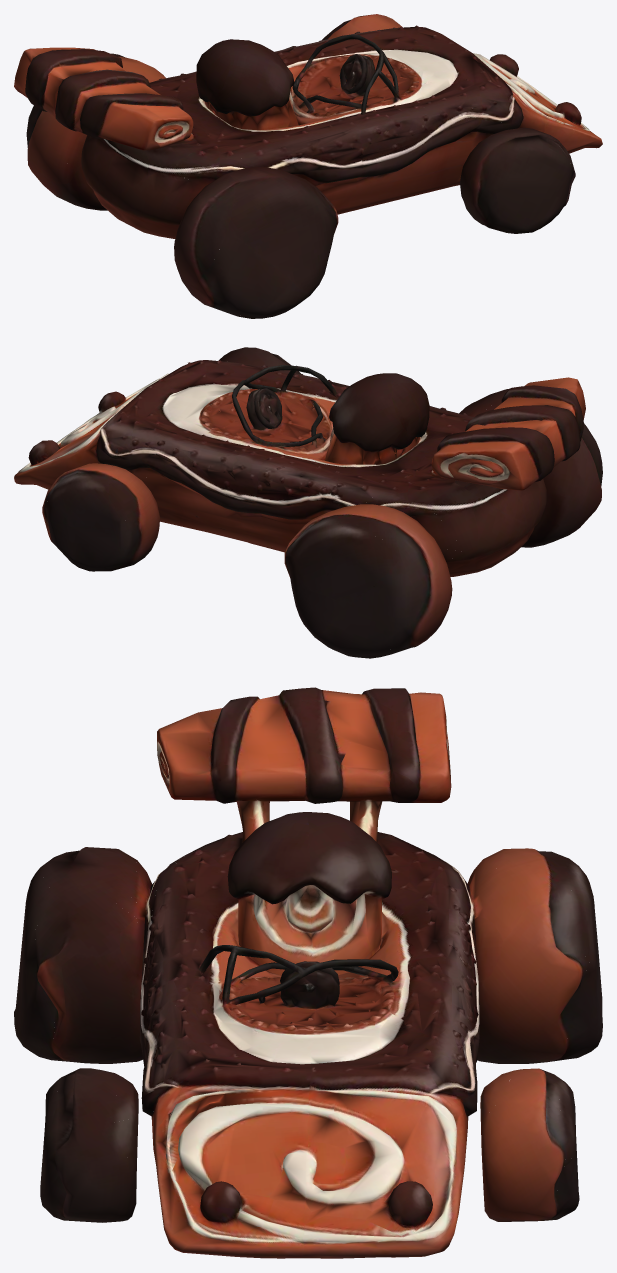
The model's file is gevulde-chariot.glb.
3 views of the same model, one above another, from view 1: azimuth 30°, elevation 25°; view 2: azimuth 150°, elevation 25°; view 3: azimuth 270°, elevation 25° (orthographic). The views are drawn at different scales.
Parts seen in each view (by area): view 1: tripo_node_58981b7b-7638-4db0-a377-dda63e94b34f, Roue_0_maillage, Roue_2_maillage, Roue_1_maillage; view 2: tripo_node_58981b7b-7638-4db0-a377-dda63e94b34f, Roue_1_maillage, Roue_3_maillage, Roue_0_maillage; view 3: tripo_node_58981b7b-7638-4db0-a377-dda63e94b34f, Roue_0_maillage, Roue_1_maillage, Roue_3_maillage, Roue_2_maillage.
Boxes of the visible parts, x1,y1,x2,y2 form: tripo_node_58981b7b-7638-4db0-a377-dda63e94b34f: (14,14,602,318); Roue_0_maillage: (164,153,336,318); Roue_2_maillage: (472,122,570,233); Roue_1_maillage: (65,70,150,210); tripo_node_58981b7b-7638-4db0-a377-dda63e94b34f: (14,347,602,658); Roue_1_maillage: (286,489,463,658); Roue_3_maillage: (45,455,159,571); Roue_0_maillage: (471,404,561,545); tripo_node_58981b7b-7638-4db0-a377-dda63e94b34f: (35,687,590,1258); Roue_0_maillage: (14,857,182,1059); Roue_1_maillage: (444,859,602,1058); Roue_3_maillage: (467,1076,579,1219); Roue_2_maillage: (40,1072,154,1217).
Size of the model in its own units: 2.7 by 1.02 by 1.88.
1 material, 1 textured.
